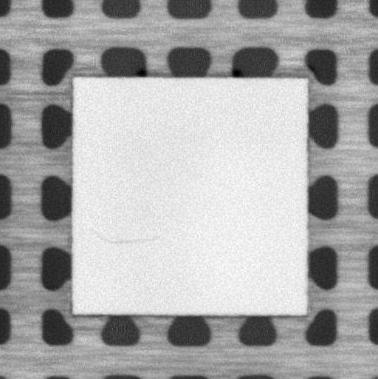DIE_CRACK: (92, 228, 160, 245)
